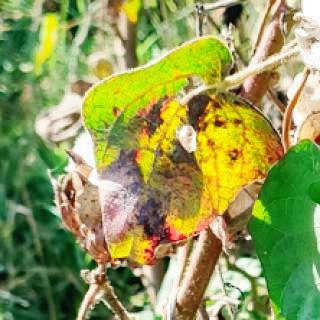blight: (71, 31, 277, 261)
